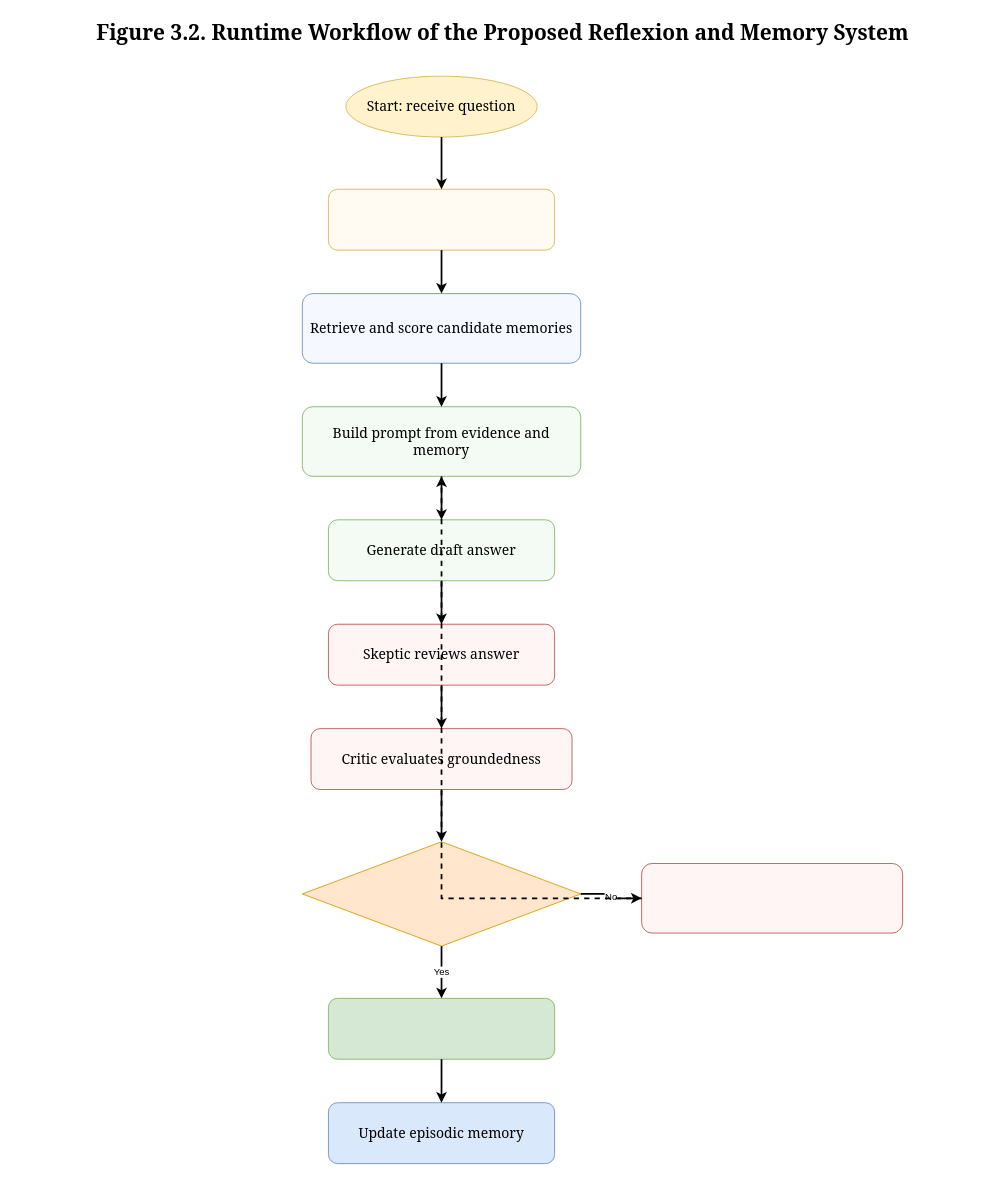
Image size: 1004x1179. Some labels were removed from this diagram. Each missing label, with the centre of its shape:
"Generate reflection guidance and retry" goes at (x=772, y=898).
"Is the answer sufficiently grounded?" goes at (x=441, y=893).
"Retrieve evidence" goes at (x=441, y=219).
"Return final answer and trace" goes at (x=441, y=1028).
